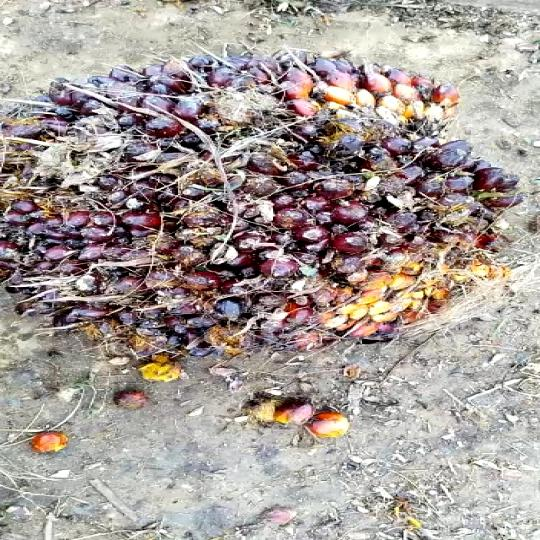mentah: (10, 45, 540, 357)
